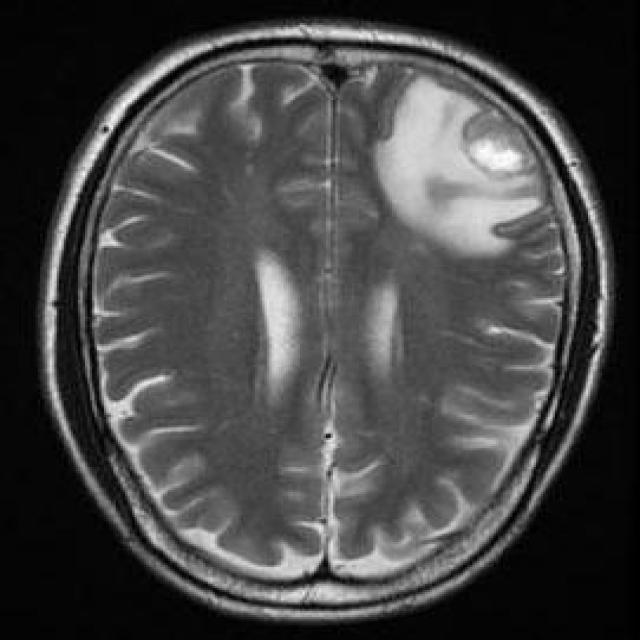brain tumor: (371, 73, 550, 256)
